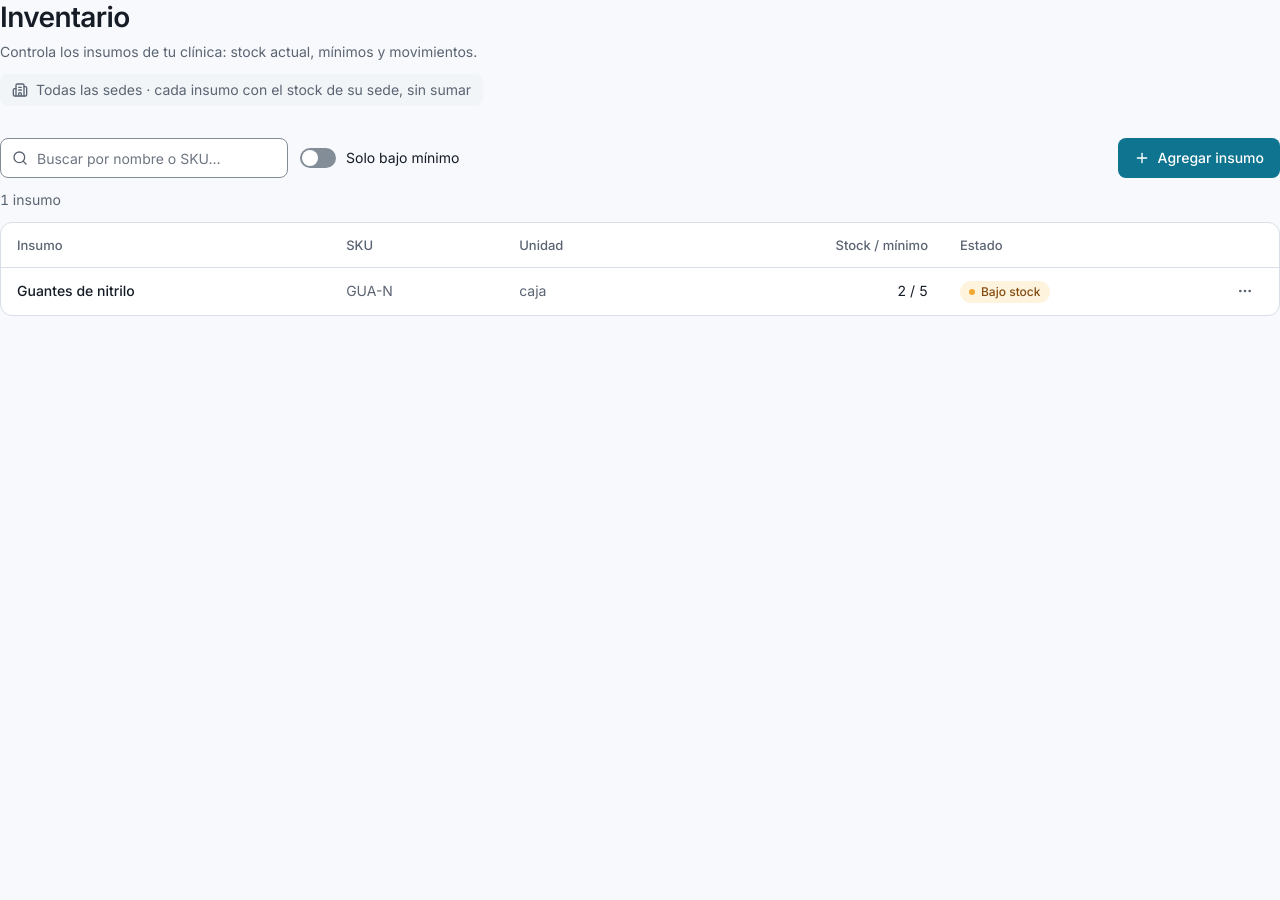
Test: muestra el historial de movimientos de un insumo
Expected: the table named "inventario" is shown, [1, 223, 1279, 314]
Click the button named "acciones de " at (1245, 291), box [1227, 273, 1263, 309]
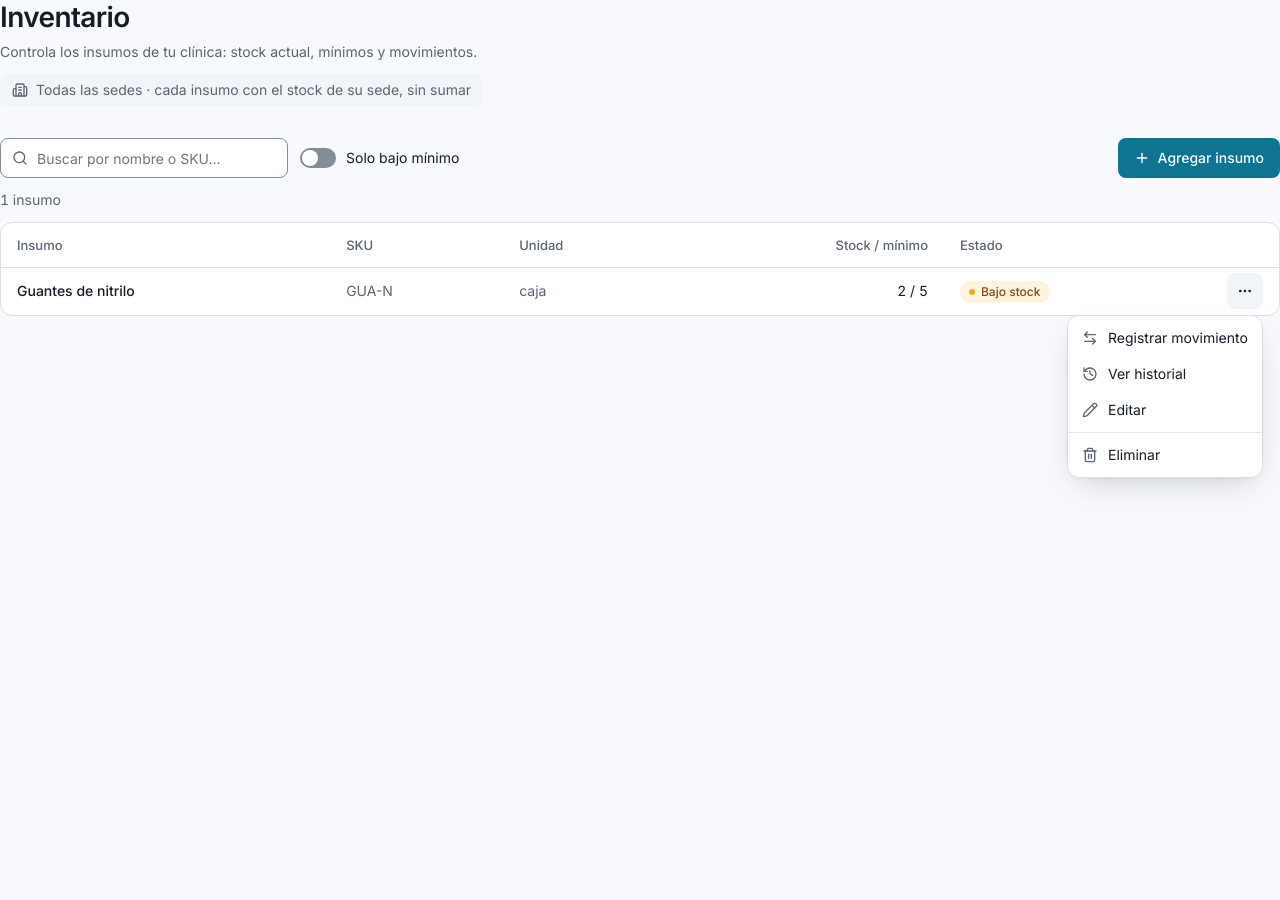
Click the menu item "Ver historial" at (1134, 374), box [1082, 365, 1186, 382]
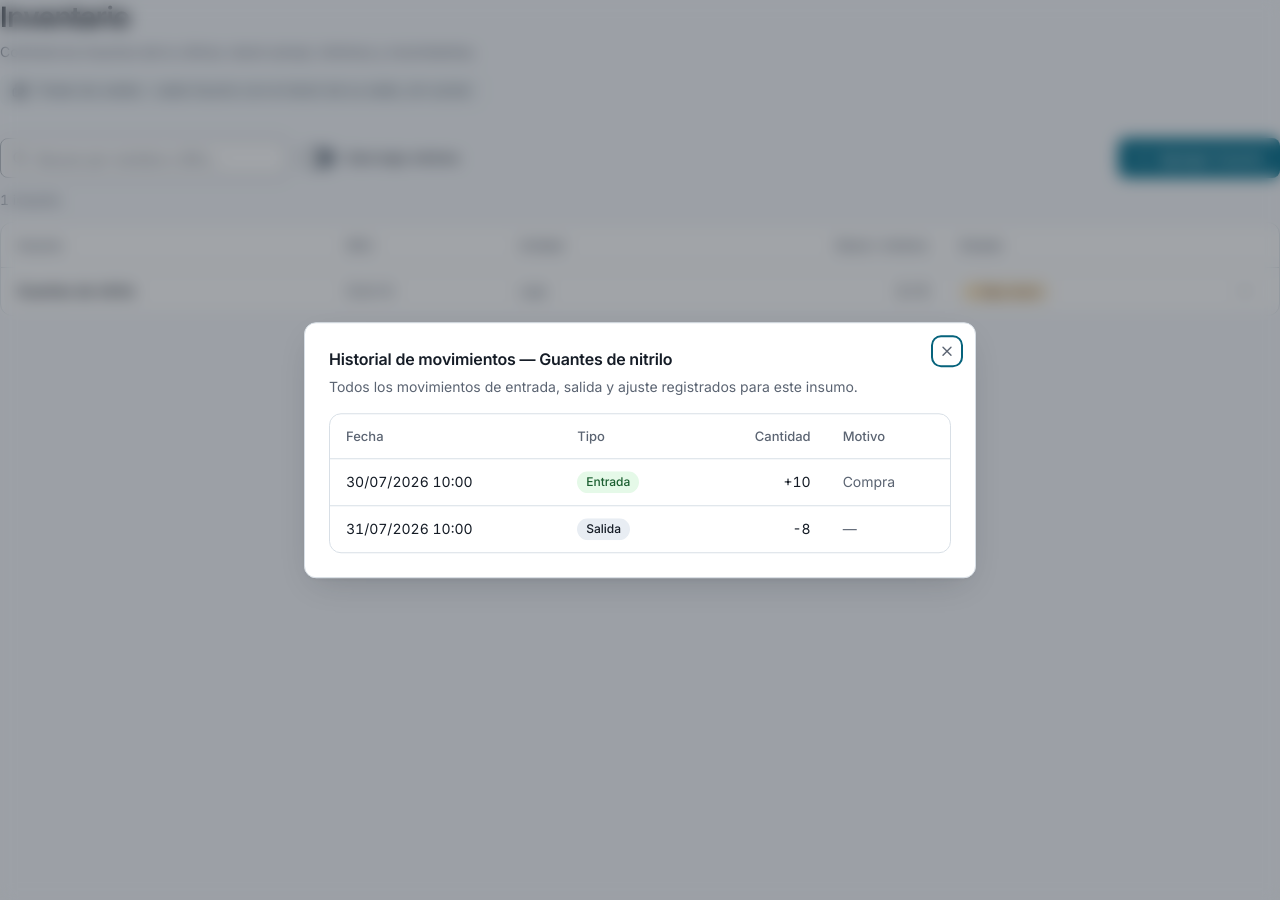
Now the text "Compra" is shown, box [843, 473, 895, 490]
Now the text "Entrada" is shown, box [577, 471, 639, 493]
Now the text "Salida" is shown, box [577, 518, 630, 540]
